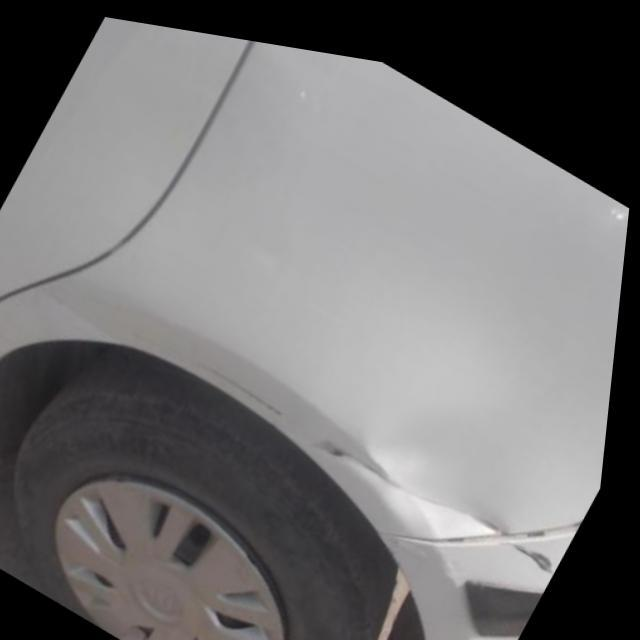scratch: (321, 430, 564, 552), (181, 341, 295, 410)
